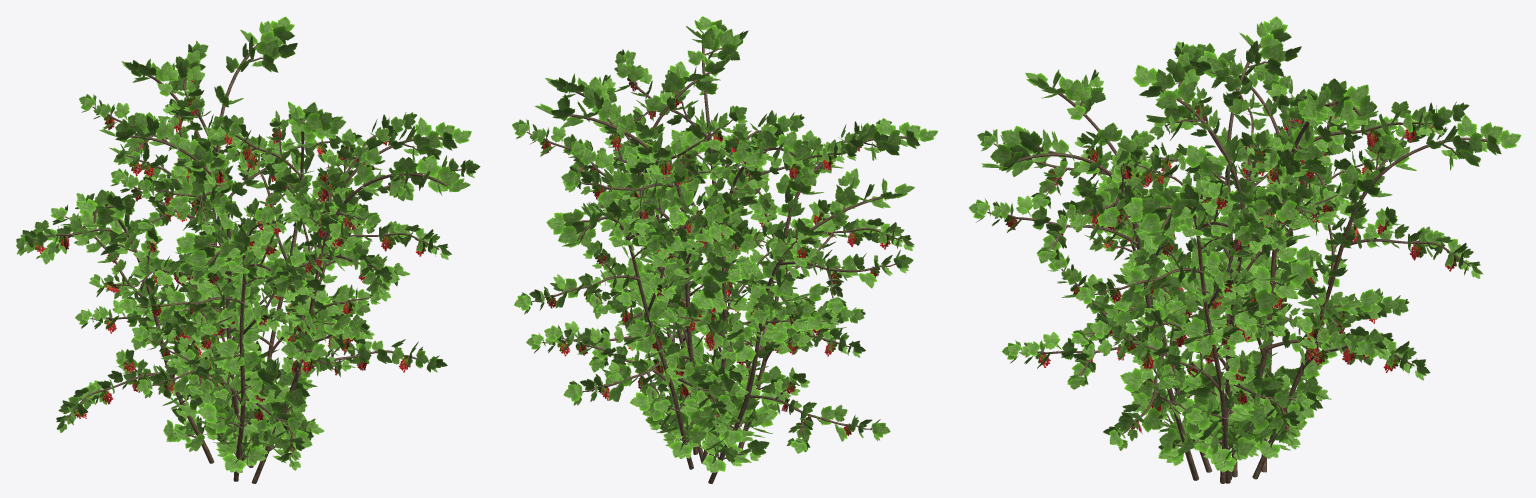
The model's file is currant.glb.
3 renders of one model, left to right at view 1: azimuth 30°, elevation 25°; view 2: azimuth 150°, elevation 25°; view 3: azimuth 270°, elevation 25°, orthographic. The views are drawn at different scales.
Visible parts, largest first — view 1: RibesRubrum_RipsMat_0; view 2: RibesRubrum_RipsMat_0; view 3: RibesRubrum_RipsMat_0.
Boxes of the visible parts, x1,y1,x2,y2 form: RibesRubrum_RipsMat_0: (16,16,480,483); RibesRubrum_RipsMat_0: (512,16,938,483); RibesRubrum_RipsMat_0: (968,16,1521,483).
Bounding box in the file's own units: 1.84 × 1.65 × 1.91.
1 material, 1 textured.
